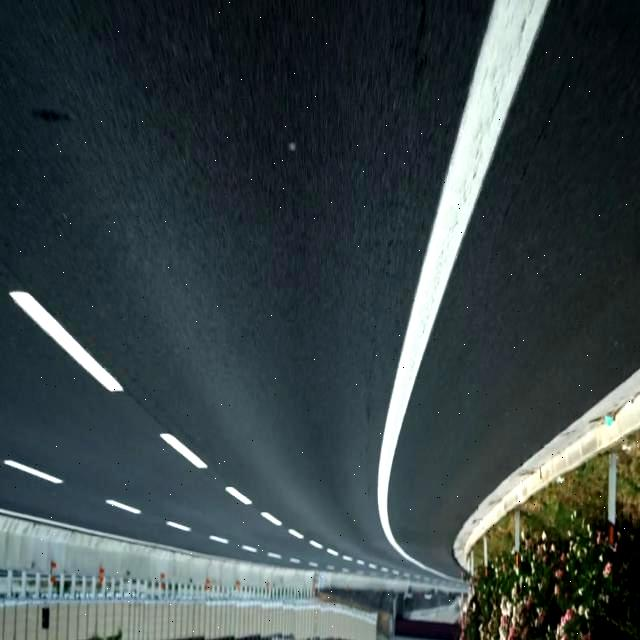lane: (378, 1, 549, 579), (10, 291, 122, 391), (160, 433, 208, 468), (106, 499, 141, 514), (225, 487, 252, 505), (12, 463, 40, 479), (0, 461, 9, 468), (48, 476, 59, 481), (52, 484, 60, 489)
road: (0, 1, 492, 573), (389, 1, 639, 576)
